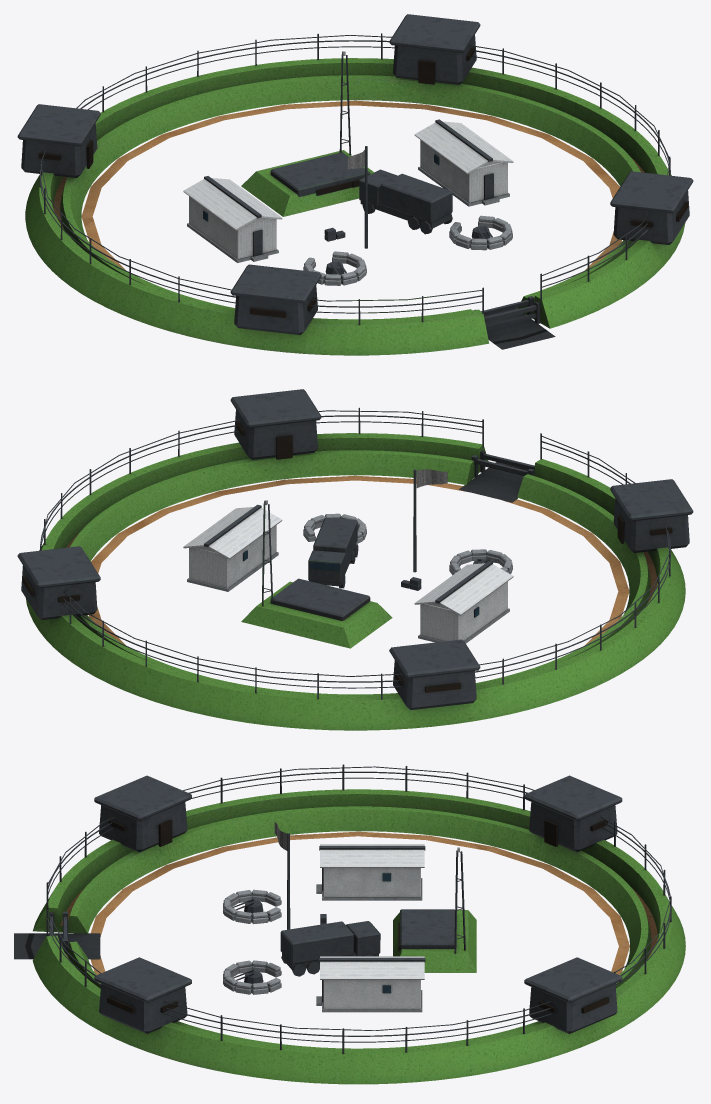
File: fort-future.glb
3 views of the same model, one above another, from view 1: azimuth 30°, elevation 25°; view 2: azimuth 150°, elevation 25°; view 3: azimuth 270°, elevation 25° (orthographic).
Parts seen in each view (by area): view 1: LOD0; view 2: LOD0; view 3: LOD0.
Part boxes in pixels (x1,y1,x2,y2): LOD0: (17,14,693,355); LOD0: (17,389,693,730); LOD0: (14,764,685,1084).
Size of what is drawn, in the model's own units: 4.86 by 0.9299 by 4.9.
Materials: 3 (3 with a texture image).
